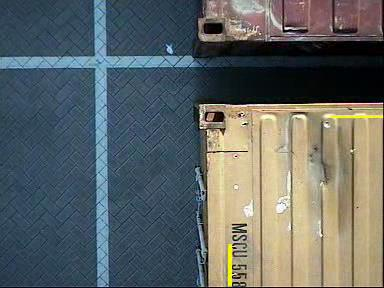groundmarker_2: (87, 138, 183, 199)
